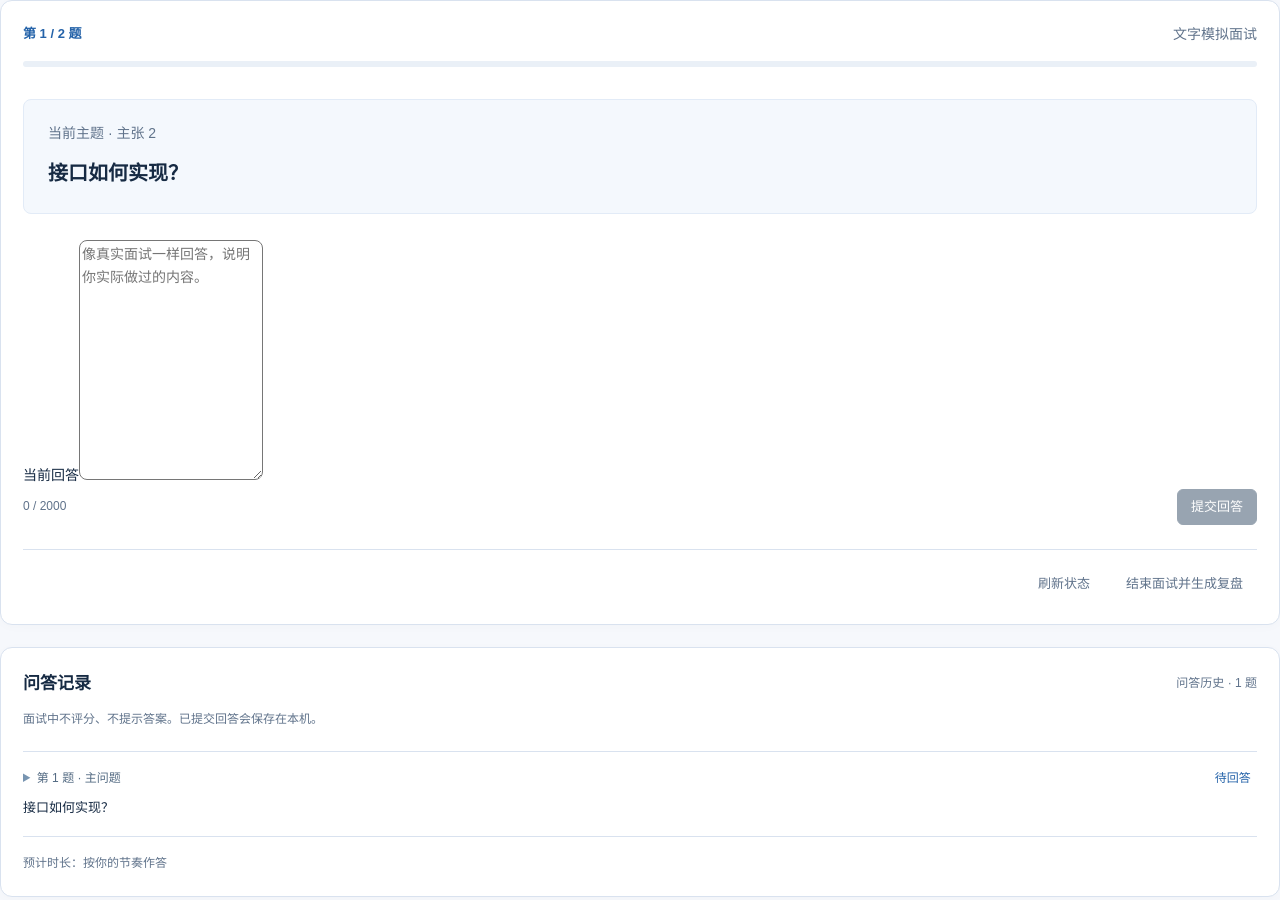
Scenario: 等待提交期间禁用按钮，不能双击重复生成
Type "回答" into the text box labelled "当前回答" at point(171, 360), box x1=79 y1=240 x2=263 y2=480
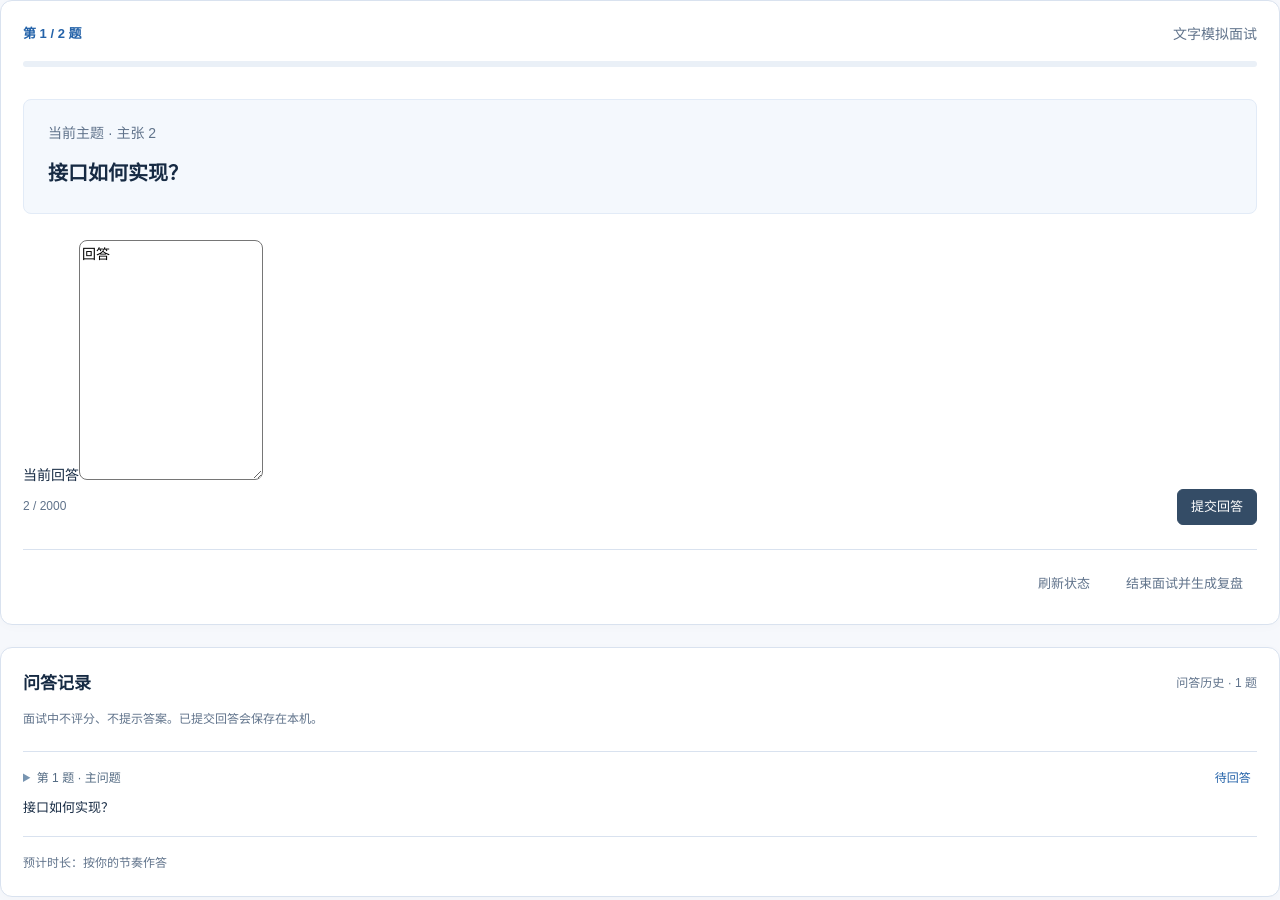
Click the button "提交回答" at point(1217, 507), box x1=1177 y1=489 x2=1257 y2=525
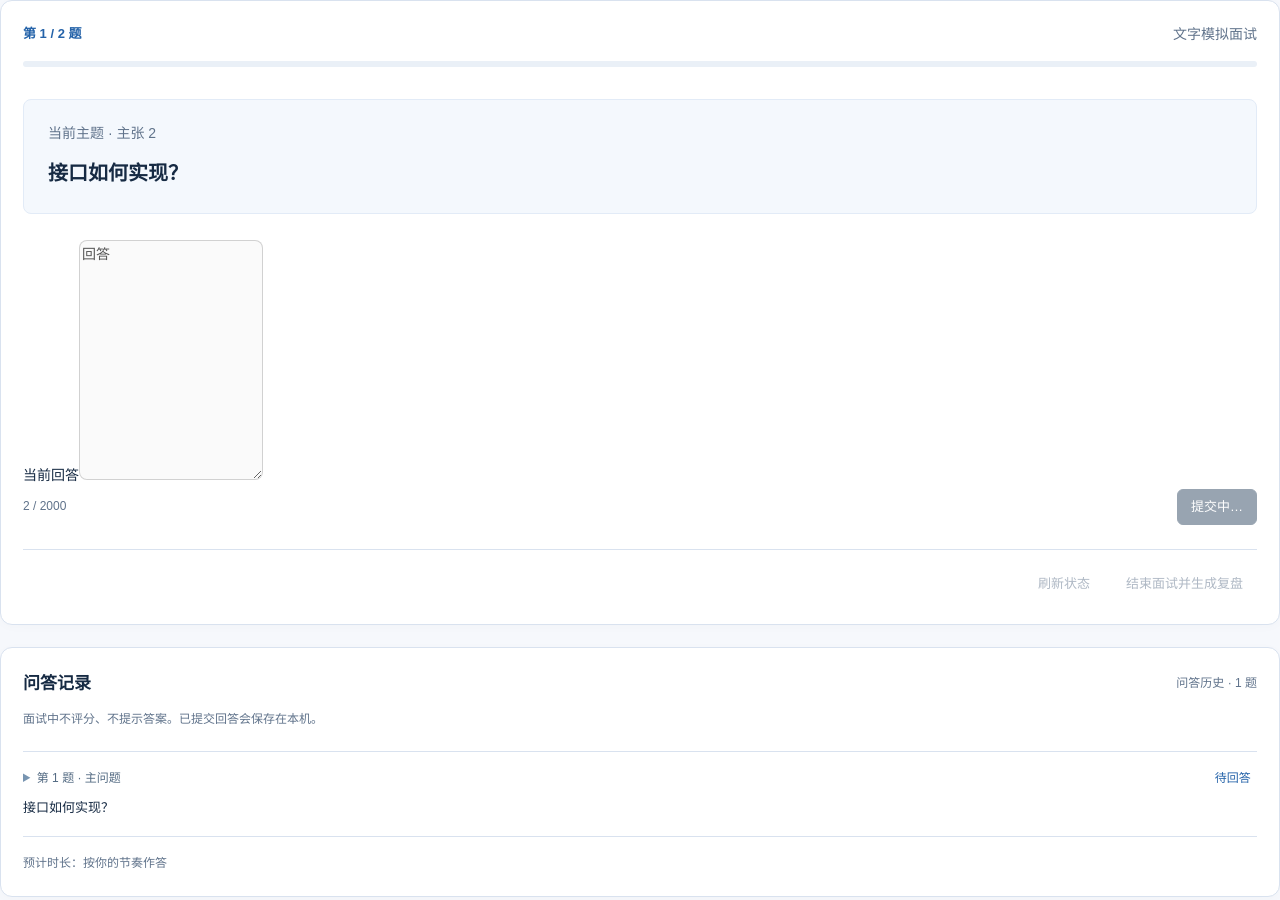
Check: the button "提交中…" is disabled, box x1=1177 y1=489 x2=1257 y2=525
Check: the button "结束面试并生成复盘" is disabled, box x1=1112 y1=566 x2=1257 y2=602
